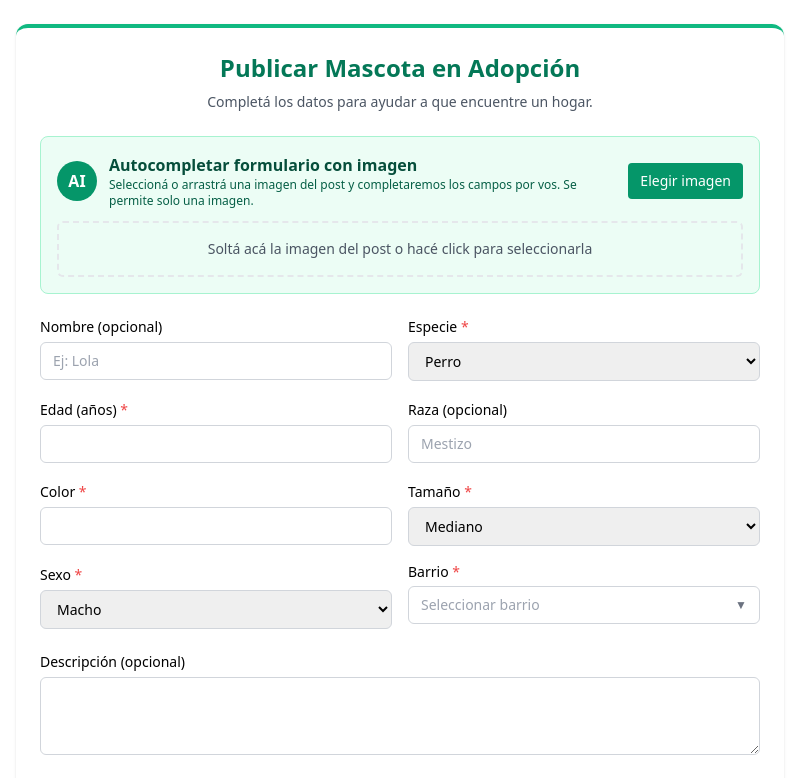
Scenario: AdoptionForm › validates age is a valid number
In the number field labelled "Edad (años) *": (216, 444) x1=40 y1=425 x2=392 y2=463, type "-5"
(page scrolled)
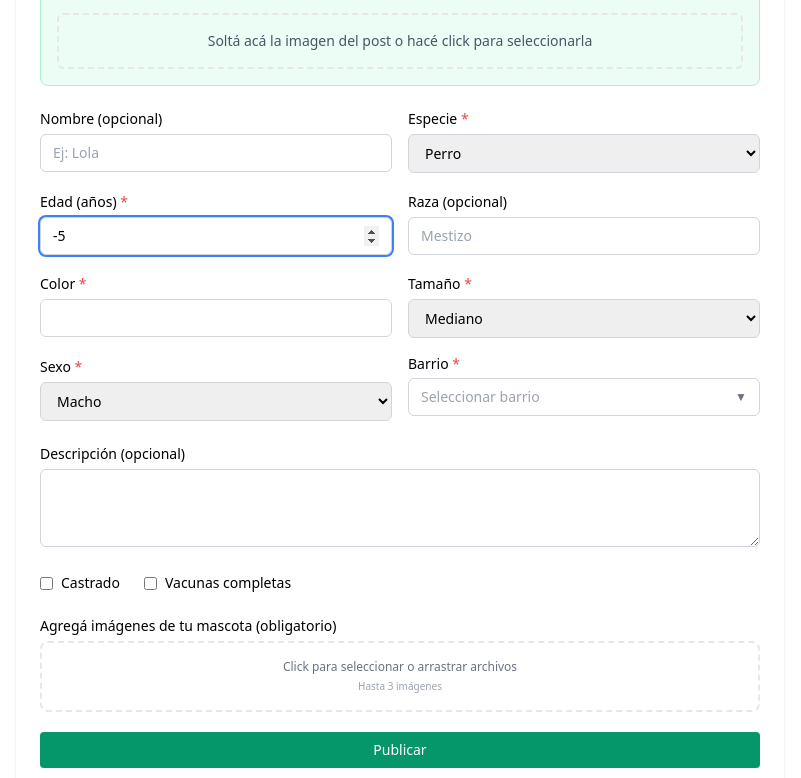
Click the button "Publicar": (400, 750) x1=40 y1=732 x2=760 y2=768
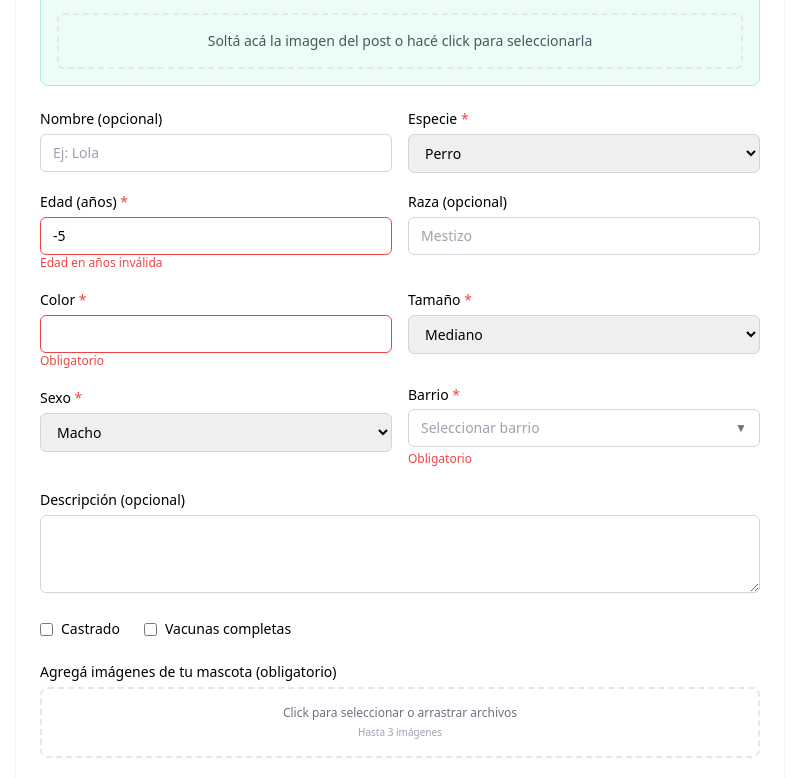
Result: the text "Edad en años inválida" is shown at x1=40 y1=254 x2=162 y2=271
